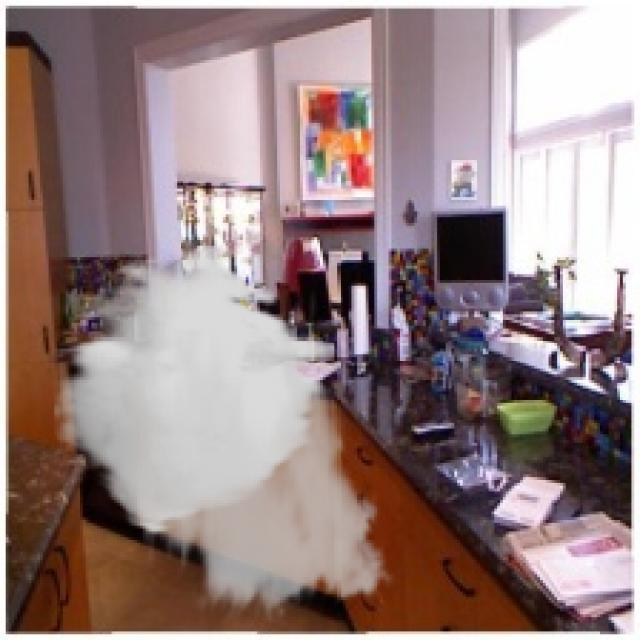smoke: (54, 243, 400, 623)
